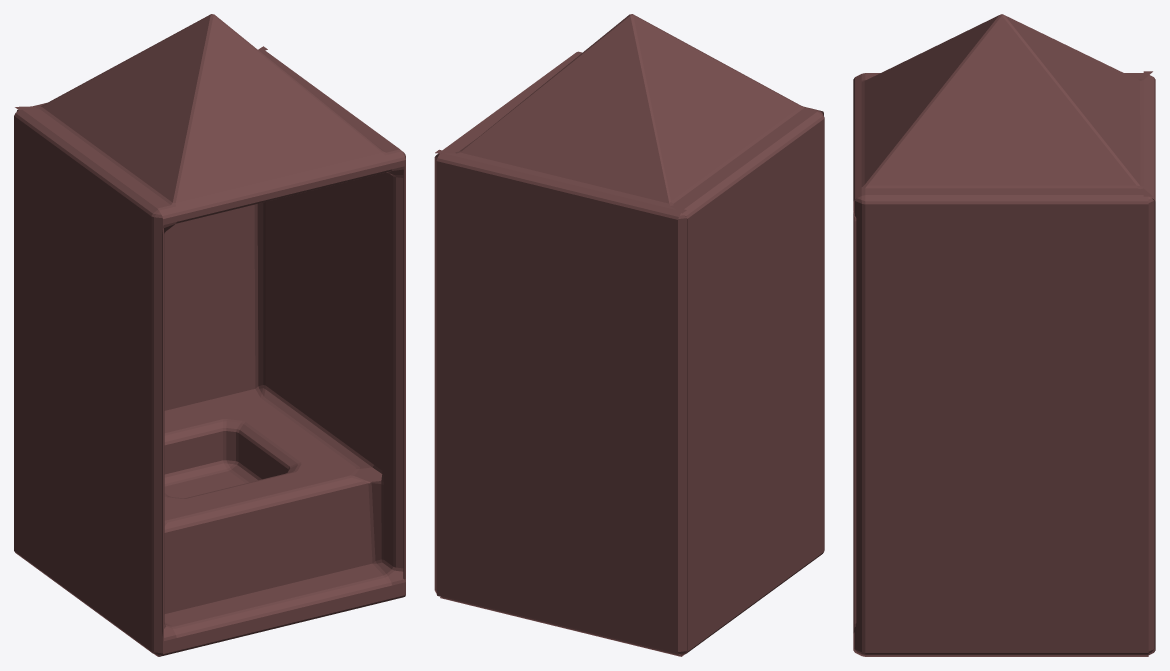
File: Toilet.fbx
3 renders of one model, left to right at view 1: azimuth 30°, elevation 25°; view 2: azimuth 150°, elevation 25°; view 3: azimuth 270°, elevation 25°, orthographic. The views are drawn at different scales.
Parts seen in each view (by area): view 1: Cube.001; view 2: Cube.001; view 3: Cube.001.
Part boxes in pixels (bbox=[...]): Cube.001: bbox=[14, 14, 405, 656]; Cube.001: bbox=[434, 14, 824, 656]; Cube.001: bbox=[853, 14, 1155, 656].
Bounding box in the file's own units: 365 × 774 × 365.
